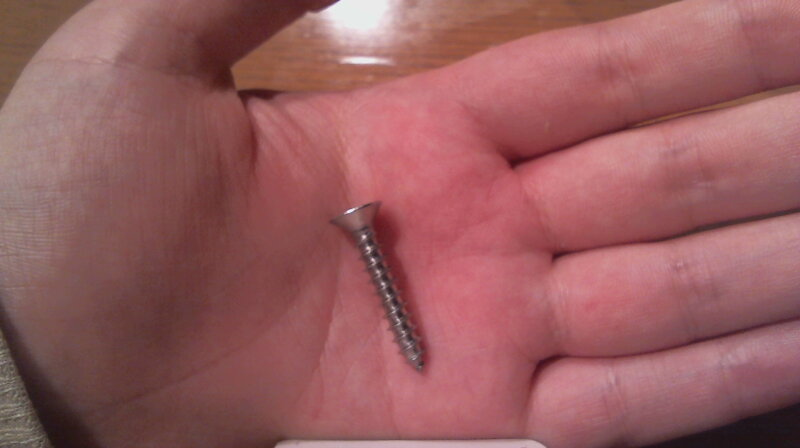S001: (324, 198, 431, 375)
